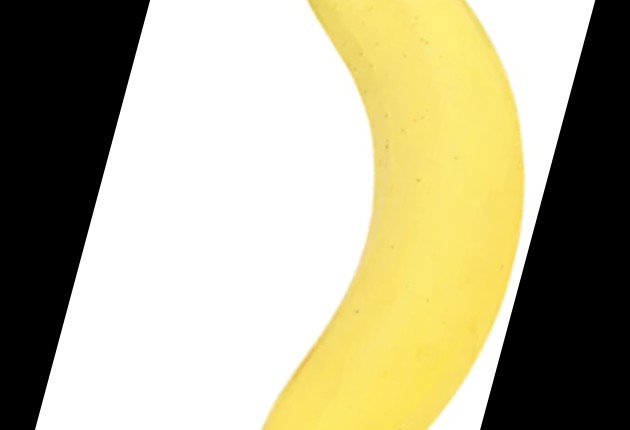fresh_banana: (262, 1, 526, 430)
